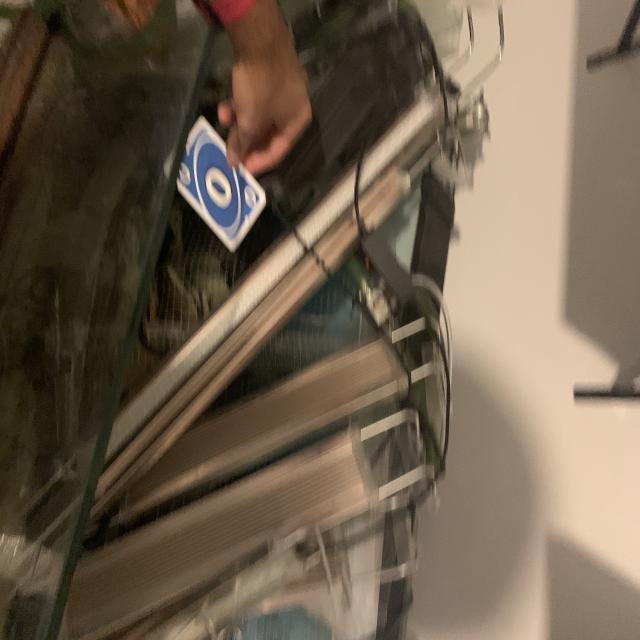lblue-0: (238, 181, 262, 213)
